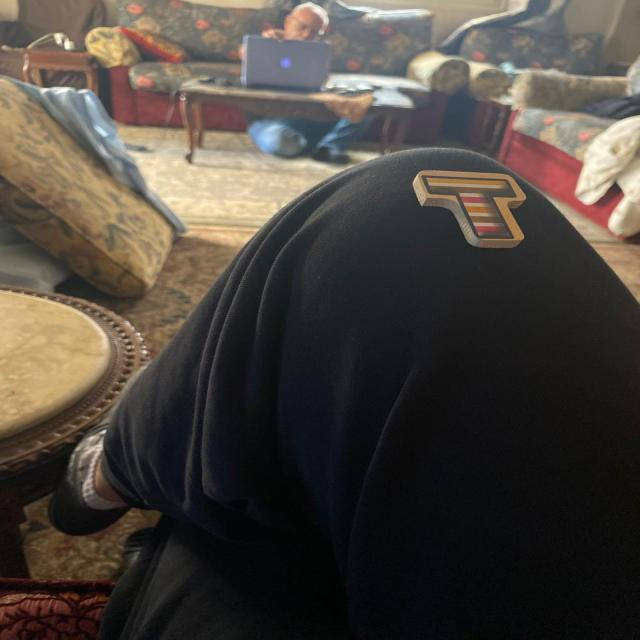T: (413, 170, 525, 248)
